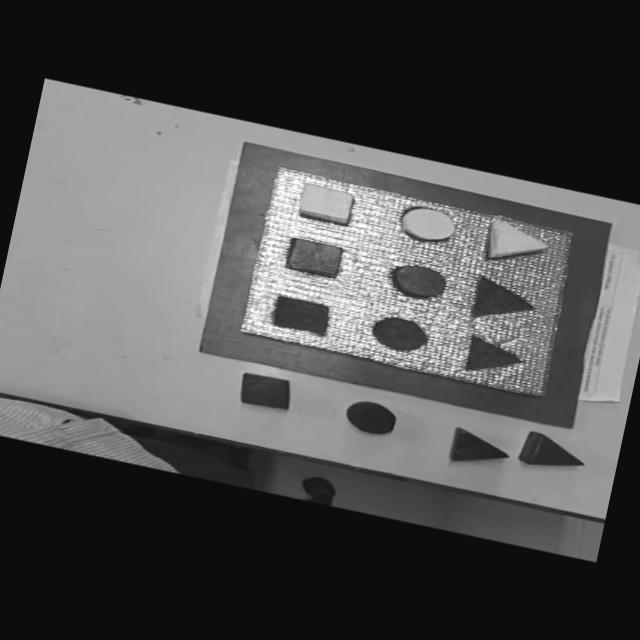bcircle: (340, 396, 400, 439)
bcube: (234, 369, 295, 413)
btriangle: (447, 426, 513, 473)
mtcircle: (367, 312, 432, 358), (388, 260, 448, 302)
mtcube: (270, 294, 333, 338)
mttriangle: (467, 274, 540, 331), (462, 334, 528, 383)
rcube: (284, 236, 346, 279)
rtriangle: (514, 428, 590, 477)
wb: (236, 164, 584, 400)
ycircle: (395, 202, 459, 248)
ycube: (294, 181, 356, 227)
ytriangle: (480, 216, 554, 272)
